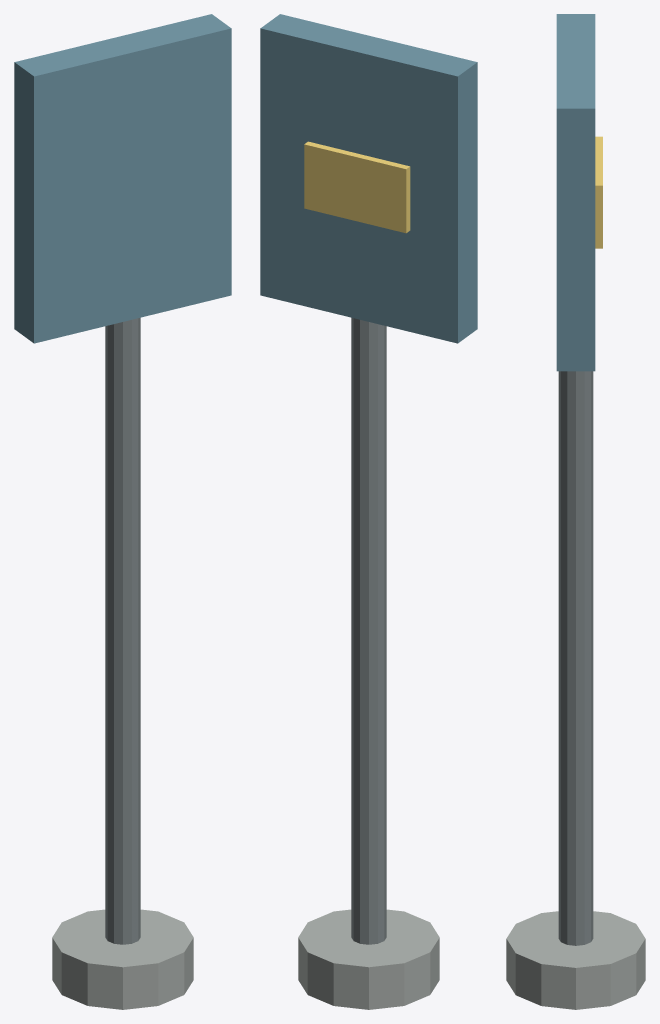
The model's file is PRP_STREET_006_bus_stop_sign.glb.
3 views of the same model, side by side, from view 1: azimuth 30°, elevation 25°; view 2: azimuth 150°, elevation 25°; view 3: azimuth 270°, elevation 25° (orthographic).
Visible parts, largest first — view 1: Part_73, Part_45, Part_48, Part_74, Part_42, Part_51, Part_76, Part_39, Part_54, Part_09, Part_12, Part_06 (+9 smaller); view 2: Part_72, Part_78, Part_60, Part_57, Part_74, Part_63, Part_54, Part_76, Part_66, Part_51, Part_21, Part_24 (+10 smaller); view 3: Part_75, Part_36, Part_69, Part_39, Part_66, Part_76, Part_42, Part_63, Part_00, Part_33, Part_03, Part_30 (+14 smaller).
Part boxes in pixels (x1,y1,x2,y2): Part_73: [34, 28, 231, 343]; Part_45: [123, 320, 131, 944]; Part_48: [114, 322, 122, 944]; Part_74: [14, 62, 33, 343]; Part_42: [132, 318, 138, 943]; Part_51: [107, 324, 113, 943]; Part_76: [14, 14, 230, 76]; Part_39: [138, 317, 140, 940]; Part_54: [105, 325, 107, 940]; Part_09: [123, 963, 158, 1009]; Part_12: [87, 963, 122, 1009]; Part_06: [158, 952, 184, 1005]; Part_72: [260, 28, 457, 343]; Part_78: [304, 144, 406, 233]; Part_60: [360, 320, 368, 944]; Part_57: [369, 322, 377, 944]; Part_74: [458, 62, 477, 343]; Part_63: [353, 318, 359, 943]; Part_54: [378, 324, 384, 943]; Part_76: [261, 14, 477, 76]; Part_66: [351, 317, 353, 940]; Part_51: [384, 325, 386, 940]; Part_21: [369, 963, 404, 1009]; Part_24: [333, 963, 368, 1009]; Part_75: [556, 108, 595, 371]; Part_36: [567, 371, 575, 945]; Part_69: [576, 371, 584, 945]; Part_39: [561, 371, 567, 944]; Part_66: [584, 371, 590, 944]; Part_76: [556, 14, 595, 108]; Part_42: [558, 371, 560, 941]; Part_63: [591, 371, 593, 941]; Part_00: [541, 964, 575, 1009]; Part_33: [576, 964, 610, 1009]; Part_03: [515, 953, 541, 1005]; Part_30: [610, 953, 636, 1005].
Size of the model in its own units: 0.58 by 2.62 by 0.36.
